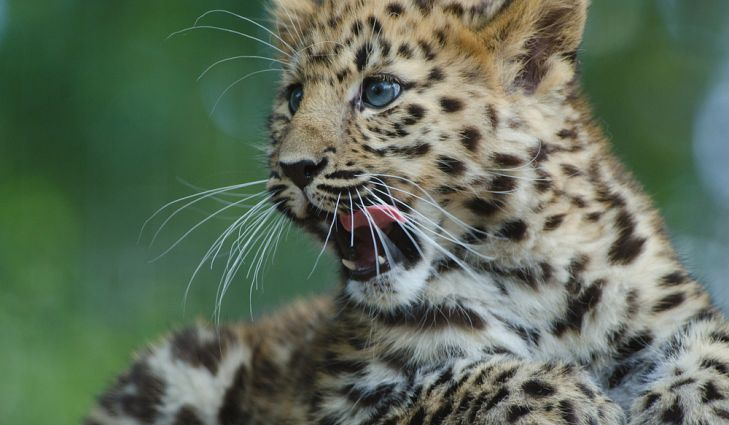amur_leopard: (177, 2, 609, 293)
